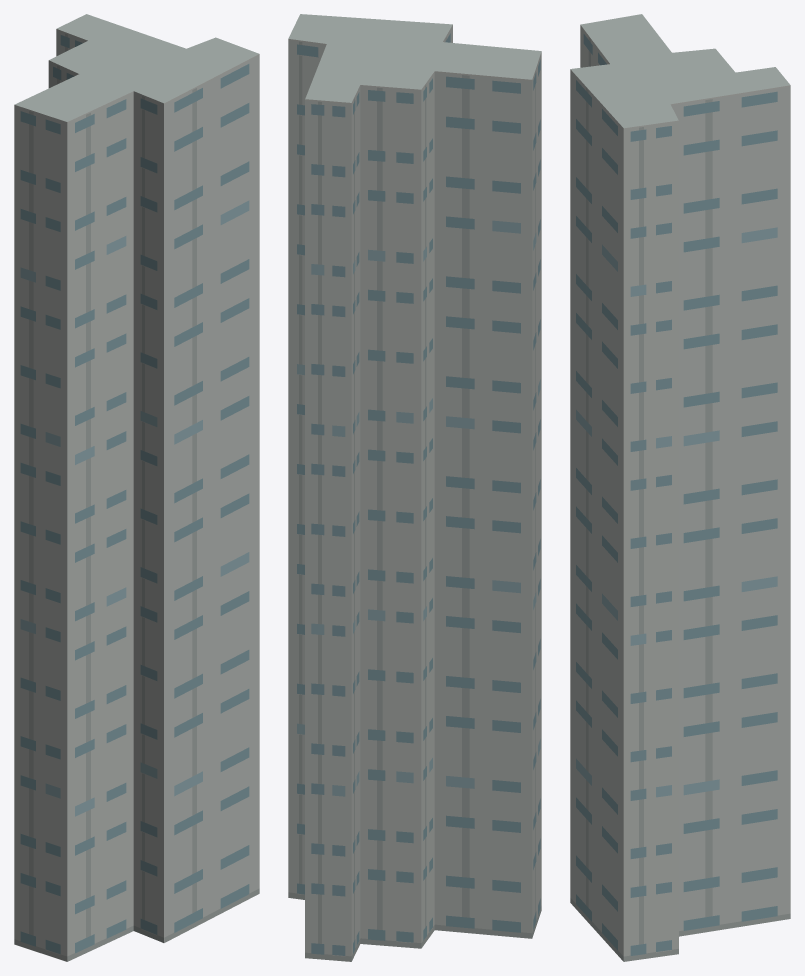
The model's file is residential-1757fc12-9cf3-4064-9e1e-de19db8c4f9f.glb.
3 renders of one model, left to right at view 1: azimuth 30°, elevation 25°; view 2: azimuth 150°, elevation 25°; view 3: azimuth 270°, elevation 25°, orthographic. The views are drawn at different scales.
Visible parts, largest first — view 1: residential-1757fc12-9cf3-4064-9e1e-de19db8c4f9f.tmp; view 2: residential-1757fc12-9cf3-4064-9e1e-de19db8c4f9f.tmp; view 3: residential-1757fc12-9cf3-4064-9e1e-de19db8c4f9f.tmp.
Part boxes in pixels (x1=…): residential-1757fc12-9cf3-4064-9e1e-de19db8c4f9f.tmp: x1=14, y1=14, x2=259, y2=961; residential-1757fc12-9cf3-4064-9e1e-de19db8c4f9f.tmp: x1=288, y1=14, x2=541, y2=961; residential-1757fc12-9cf3-4064-9e1e-de19db8c4f9f.tmp: x1=570, y1=14, x2=790, y2=961.
Bounding box in the file's own units: 42.95 × 146 × 35.
